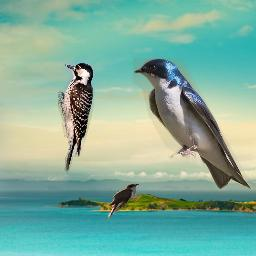Cuckoo: (107, 183, 140, 222)
Swallow: (133, 58, 253, 191)
Woodpecker: (58, 60, 95, 174)
